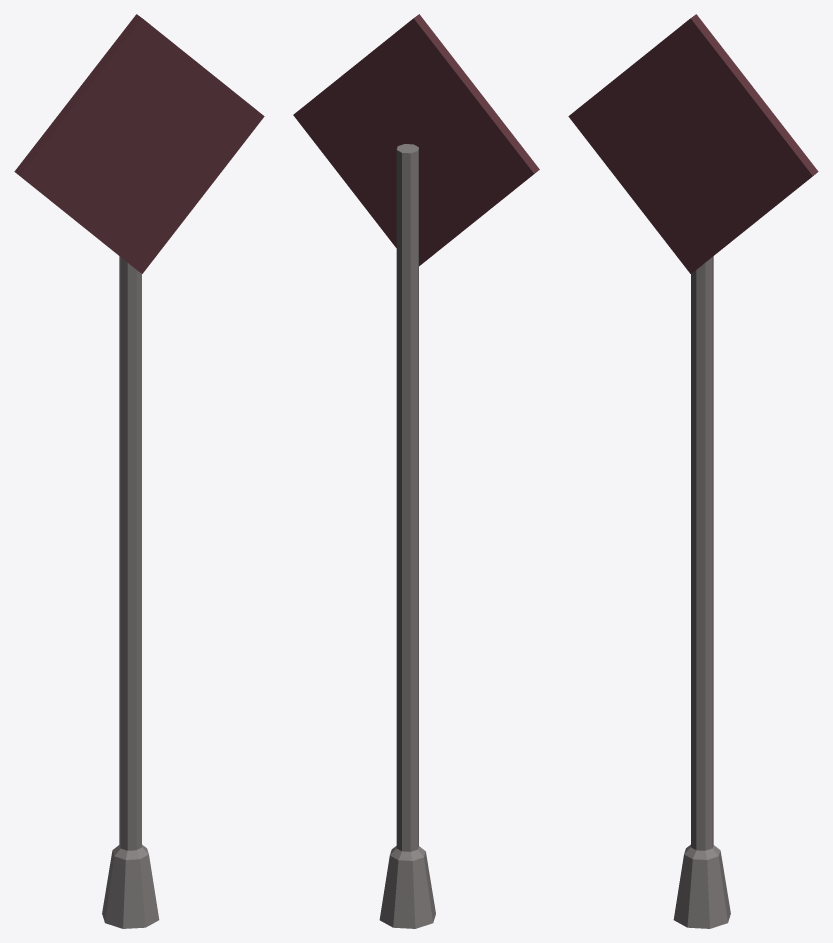
Rendered from traffic-sign-main.fbx.
The picture shows the model from 3 angles, left to right: view 1: azimuth 30°, elevation 25°; view 2: azimuth 150°, elevation 25°; view 3: azimuth 330°, elevation 25°; orthographic projection.
Visible parts, largest first — view 1: traffic-sign-main; view 2: traffic-sign-main; view 3: traffic-sign-main.
Boxes of the visible parts, <box> form: traffic-sign-main: <box>14,14,264,928</box>; traffic-sign-main: <box>293,14,539,928</box>; traffic-sign-main: <box>568,14,818,928</box>.
Bounding box in the file's own units: 0.7223 × 2.56 × 0.1519.
